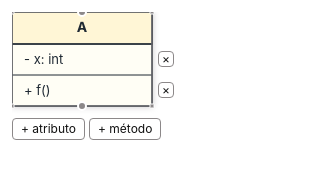
Test case: botones de miembros › el miembro agregado queda en modo edición con su texto
The image size is (332, 172).
Click the button with aria-label "Agregar atributo".
click(48, 129)  # box [12,118,85,140]
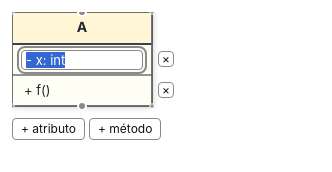
Now the dropdown named "Editar texto" holds "- x: int", box [21,50,143,70]
